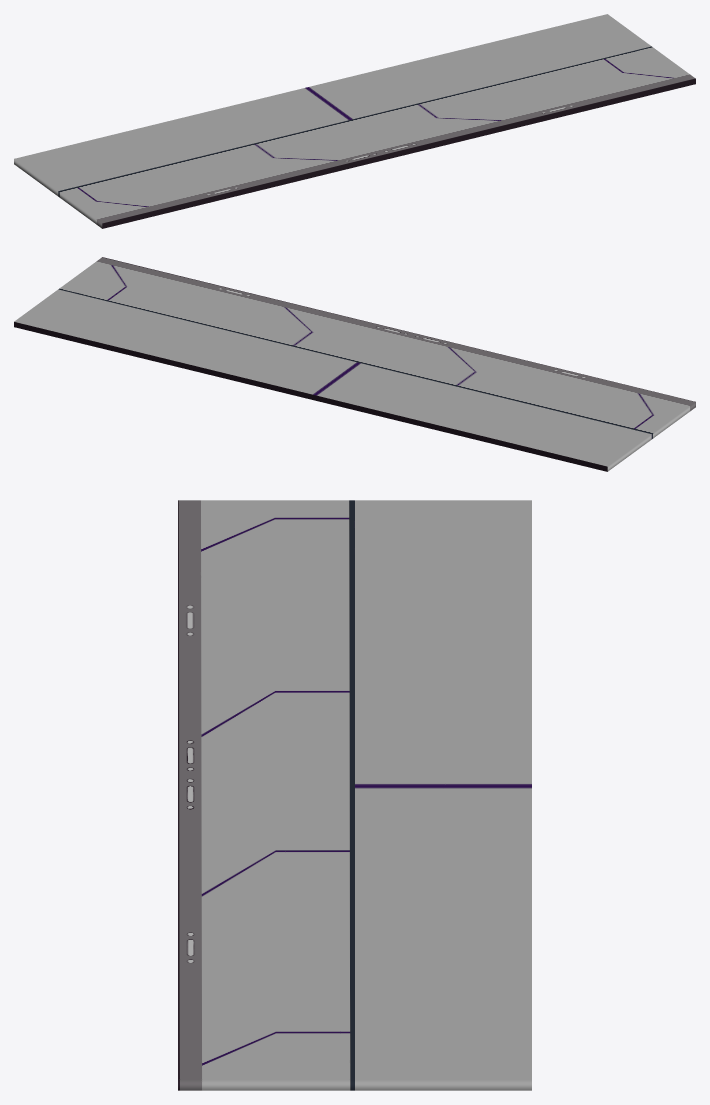
The model's file is KF_SM_LSide002.fbx.
3 renders of one model, top to bottom at view 1: azimuth 30°, elevation 25°; view 2: azimuth 150°, elevation 25°; view 3: azimuth 270°, elevation 25°, orthographic. The views are drawn at different scales.
Visible parts, largest first — view 1: KF_SM_LSideW000; view 2: KF_SM_LSideW000; view 3: KF_SM_LSideW000.
Boxes of the visible parts, x1=… form: KF_SM_LSideW000: x1=14, y1=14, x2=695, y2=228; KF_SM_LSideW000: x1=14, y1=257, x2=695, y2=471; KF_SM_LSideW000: x1=178, y1=500, x2=531, y2=1090.
Bounding box in the file's own units: 5788 × 50 × 1494.
1 material, 1 textured.
